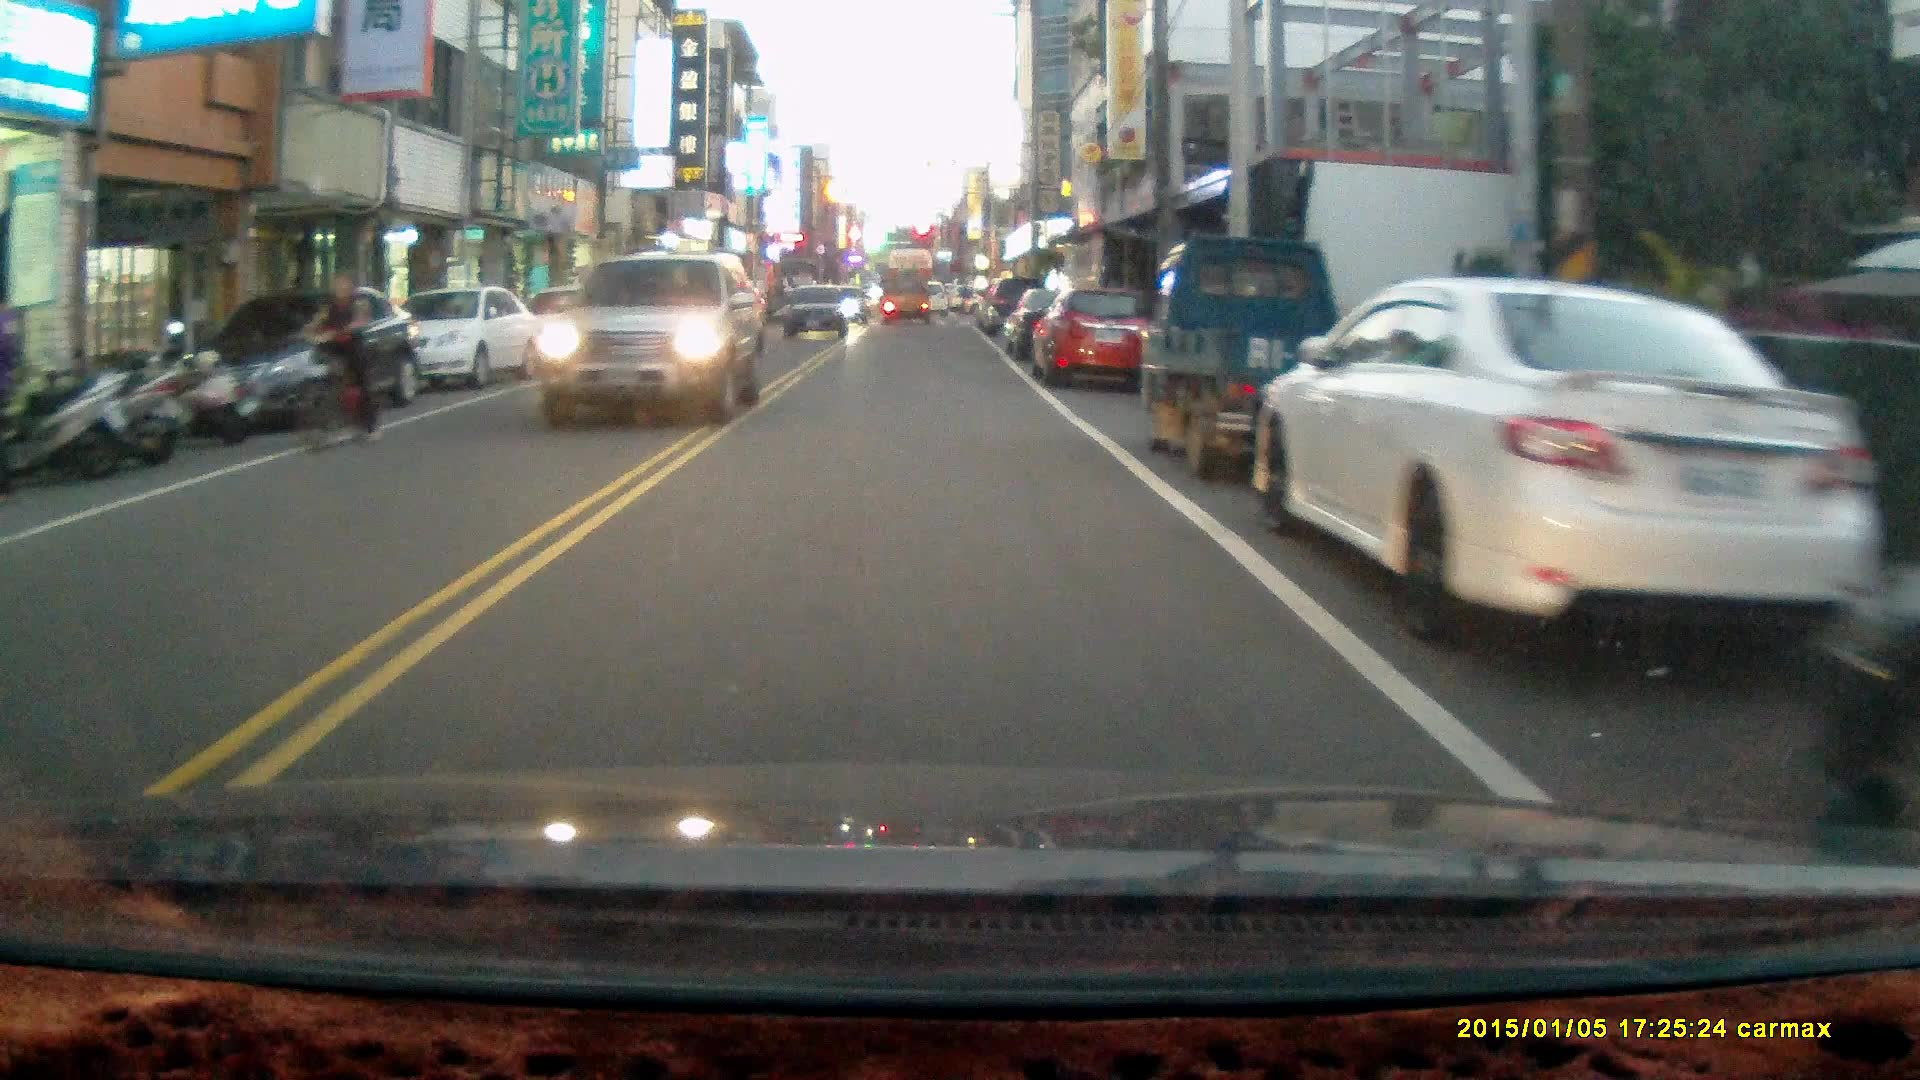rider: (293, 267, 382, 453)
vehicle: (1250, 276, 1864, 659), (1142, 232, 1398, 485), (535, 251, 767, 430), (175, 286, 414, 427), (345, 286, 532, 396), (1037, 288, 1156, 392), (779, 286, 852, 343), (881, 272, 934, 331)
